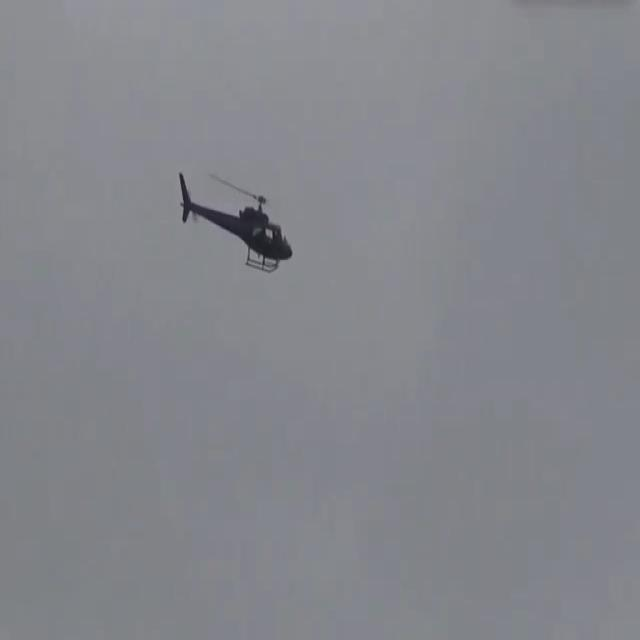Helicopter: (170, 167, 296, 283)
